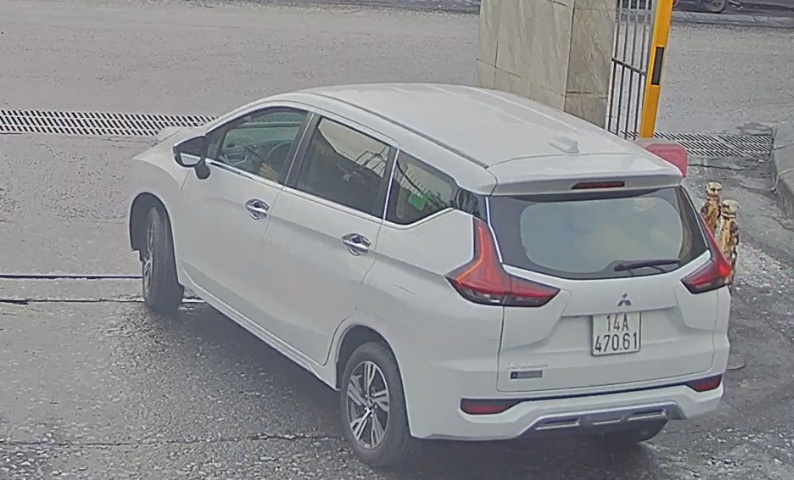vehicle plate: (585, 304, 642, 358)
